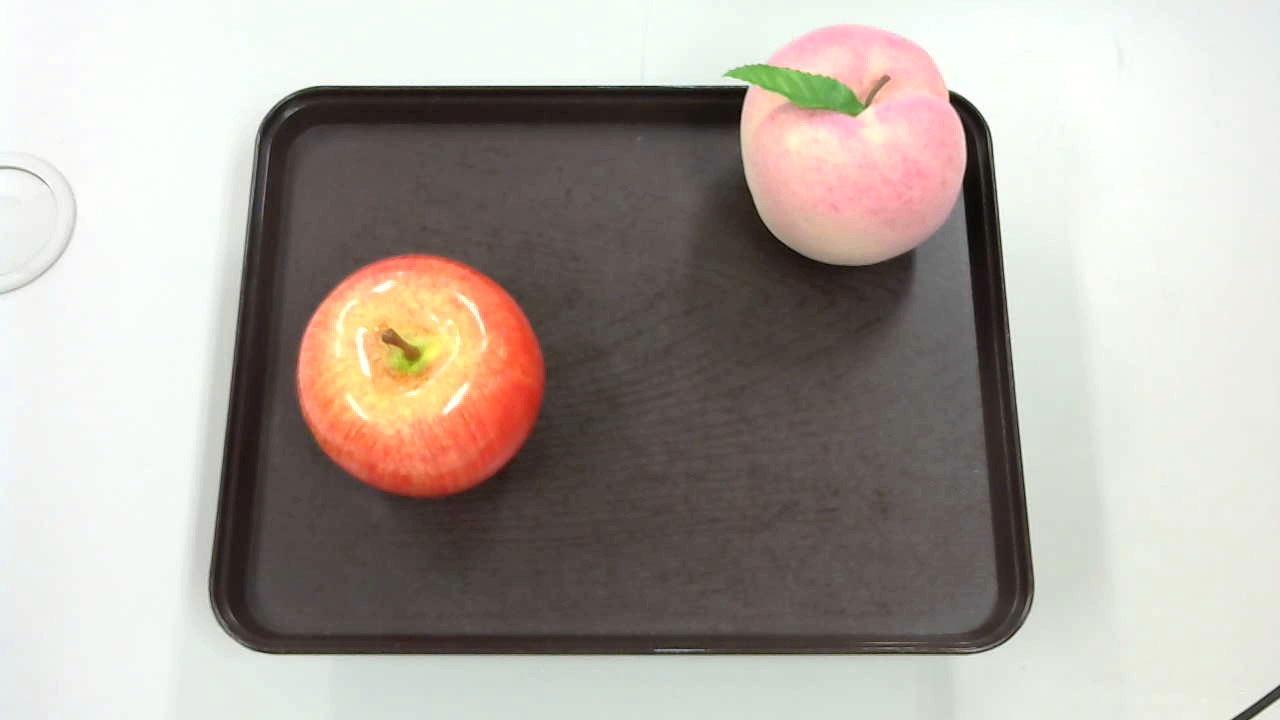peach: (728, 23, 972, 274)
red apple: (291, 249, 549, 513)
